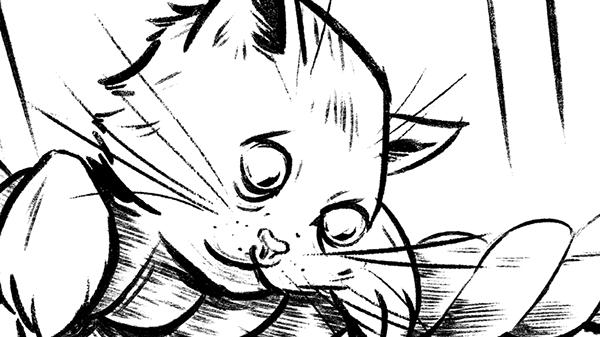cat: (5, 1, 497, 337)
